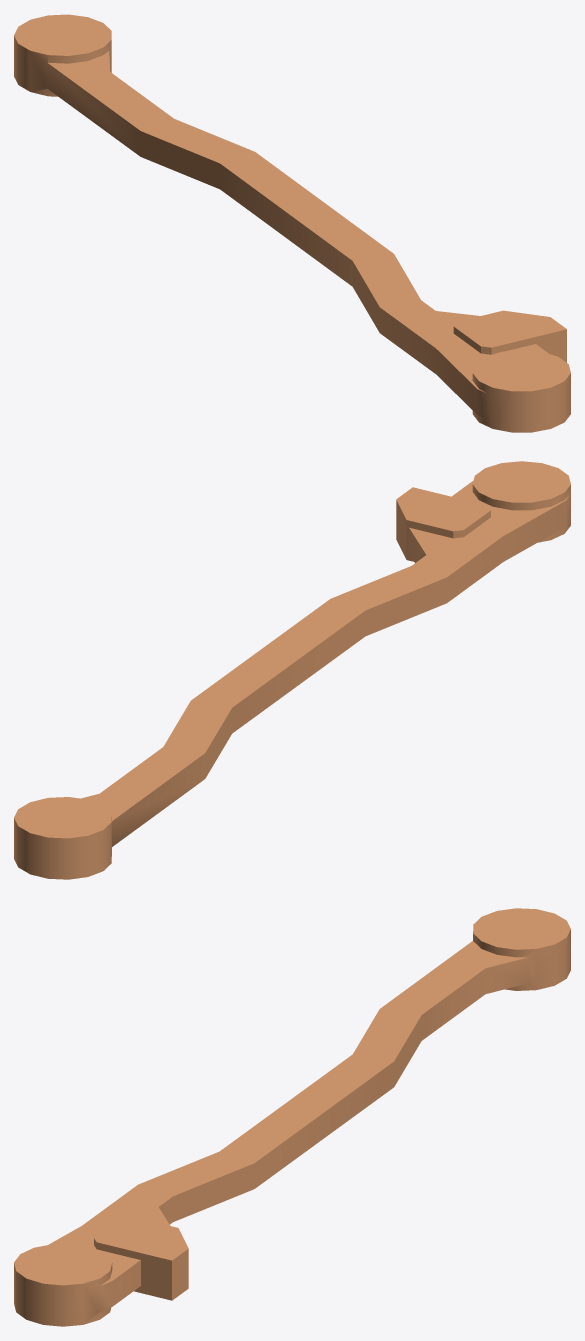
The model's file is link_lever_b.dae.
3 views of the same model, one above another, from view 1: azimuth 30°, elevation 25°; view 2: azimuth 150°, elevation 25°; view 3: azimuth 330°, elevation 25° (orthographic).
Parts seen in each view (by area): view 1: IRB2400_16_m2000_rev4_01-5; view 2: IRB2400_16_m2000_rev4_01-5; view 3: IRB2400_16_m2000_rev4_01-5.
Boxes of the visible parts, x1,y1,x2,y2 form: IRB2400_16_m2000_rev4_01-5: (14,14,570,432); IRB2400_16_m2000_rev4_01-5: (14,461,570,879); IRB2400_16_m2000_rev4_01-5: (14,908,570,1326).
Bounding box in the file's own units: 0.1078 × 0.035 × 0.78.
